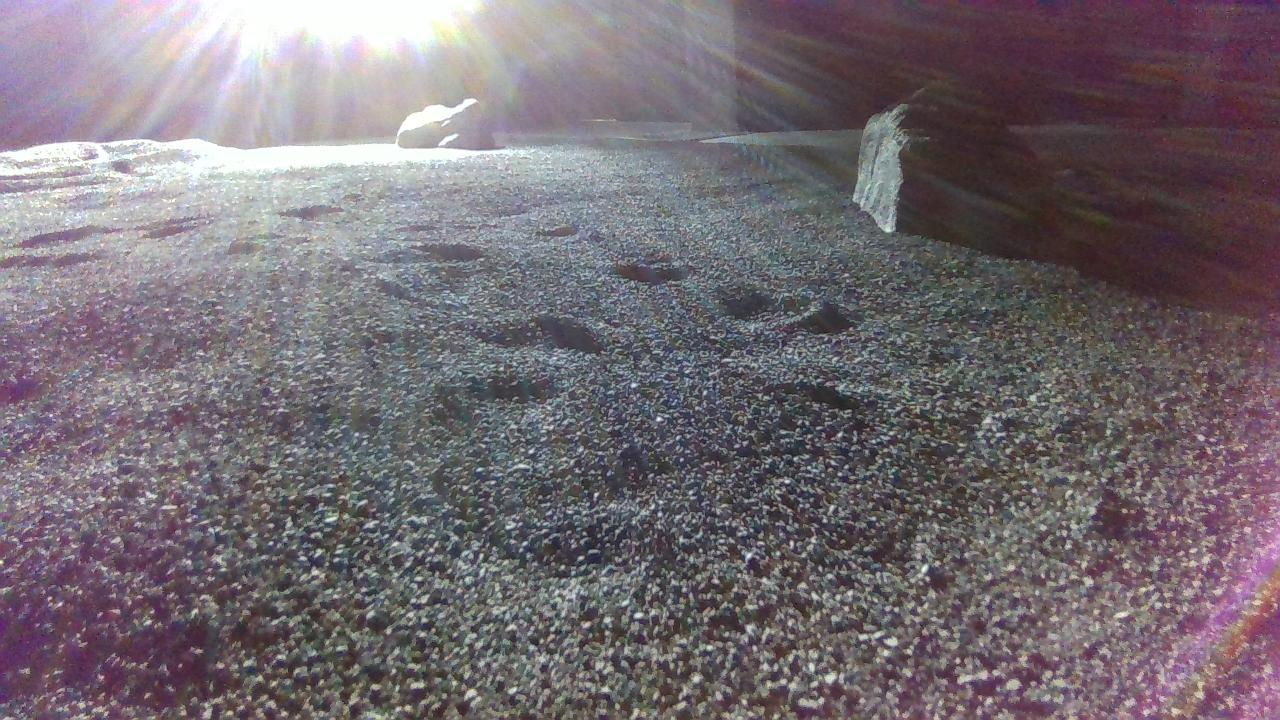rock: (855, 81, 1055, 243), (396, 97, 495, 148)
